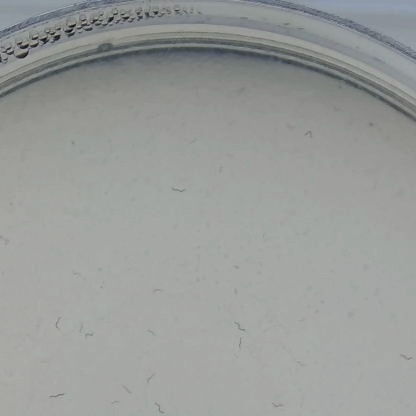worm: (232, 315, 253, 334), (168, 181, 191, 195), (232, 336, 251, 352), (48, 388, 69, 402), (299, 125, 319, 139), (51, 315, 67, 332), (398, 350, 416, 362), (148, 285, 169, 295), (120, 382, 134, 397), (144, 371, 158, 386), (0, 231, 13, 246), (82, 329, 95, 343), (69, 268, 83, 280), (103, 400, 121, 409), (271, 401, 283, 413), (76, 320, 87, 333), (143, 328, 157, 338), (293, 360, 309, 368)
